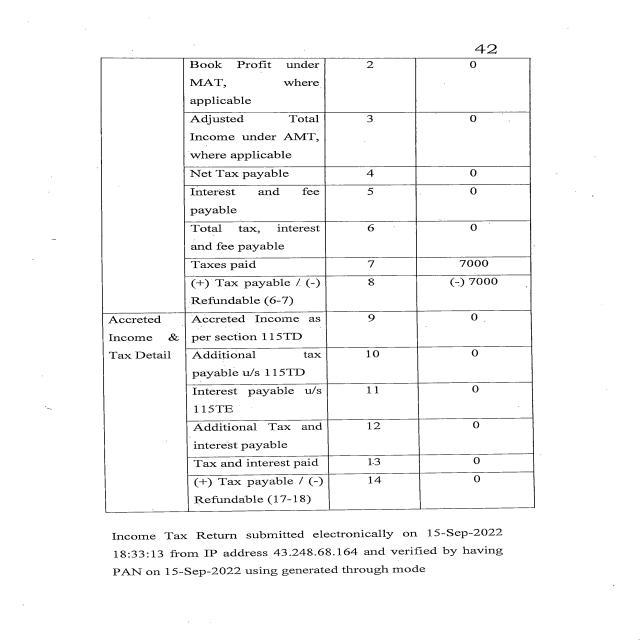page-number: (360, 0, 640, 57)
